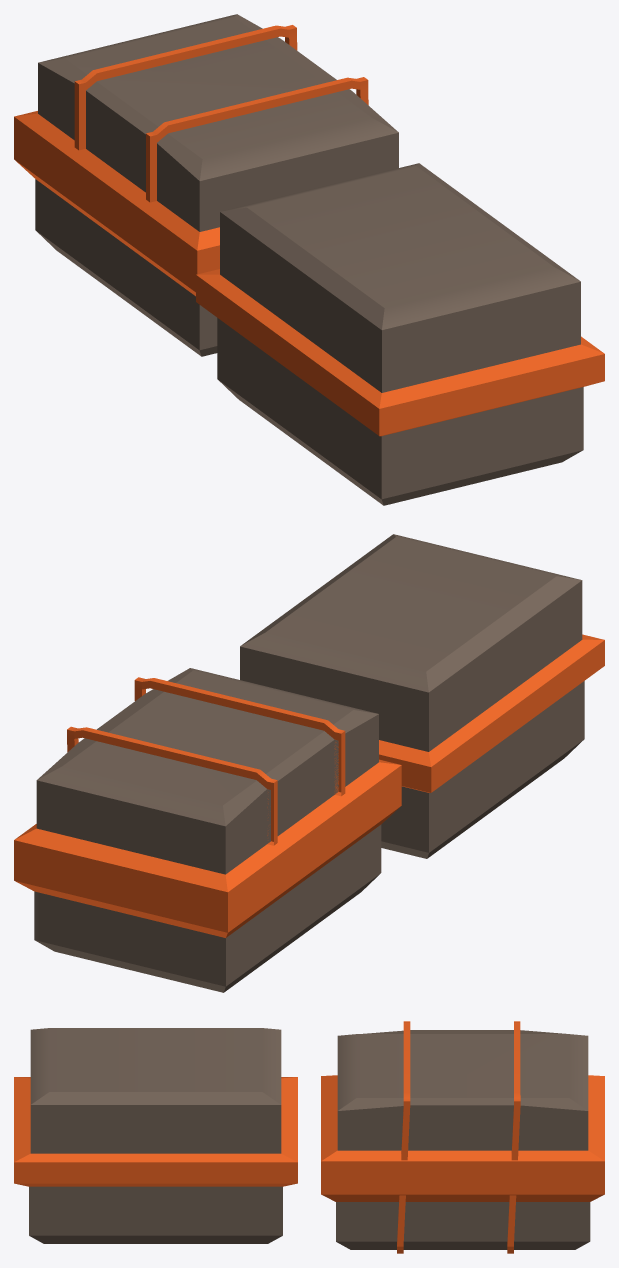
Rendered from doos.fbx.
The picture shows the model from 3 angles, top to bottom: view 1: azimuth 30°, elevation 25°; view 2: azimuth 150°, elevation 25°; view 3: azimuth 270°, elevation 25°; orthographic projection. The views are drawn at different scales.
Parts seen in each view (by area): view 1: alle_3d_models:polySurface287, alle_3d_models:polySurface288; view 2: alle_3d_models:polySurface288, alle_3d_models:polySurface287; view 3: alle_3d_models:polySurface288, alle_3d_models:polySurface287.
Boxes of the visible parts, x1,y1,x2,y2 form: alle_3d_models:polySurface287: (196,163,604,505); alle_3d_models:polySurface288: (14,14,398,356); alle_3d_models:polySurface288: (14,668,401,992); alle_3d_models:polySurface287: (240,534,604,858); alle_3d_models:polySurface288: (321,1021,604,1253); alle_3d_models:polySurface287: (14,1028,297,1243).
Bounding box in the file's own units: 175 × 143 × 477.
